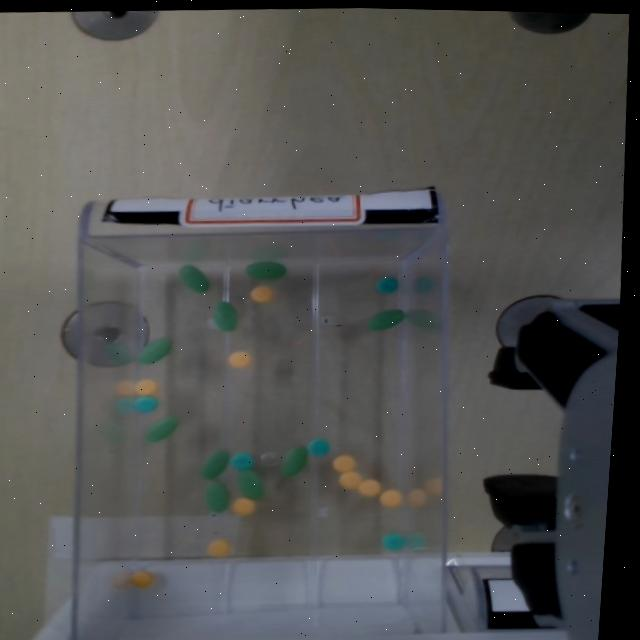famodine: (381, 532, 406, 549), (306, 438, 329, 456), (229, 452, 253, 469), (374, 275, 397, 292), (230, 451, 253, 468), (133, 395, 157, 411), (381, 532, 402, 550), (134, 396, 156, 413), (306, 438, 328, 454), (375, 276, 398, 291)
otillen_tab: (135, 335, 171, 363), (278, 445, 308, 476), (177, 264, 211, 291), (137, 336, 170, 363), (203, 479, 230, 512), (143, 415, 177, 441), (242, 259, 288, 278), (233, 470, 264, 498), (201, 448, 229, 478), (210, 300, 238, 330), (366, 307, 404, 329), (200, 449, 228, 478), (178, 264, 208, 291), (280, 445, 307, 475), (204, 480, 229, 511), (245, 259, 285, 278), (235, 470, 263, 497), (367, 308, 404, 328), (211, 300, 236, 329)
samsung_octylonium_tab: (128, 568, 154, 586), (332, 453, 356, 472), (338, 469, 362, 488), (356, 477, 381, 495), (230, 496, 256, 513), (131, 568, 154, 587), (207, 538, 231, 556), (332, 453, 356, 471), (207, 537, 231, 555), (378, 488, 403, 505), (379, 488, 402, 506), (227, 350, 251, 367), (338, 470, 362, 487), (231, 497, 253, 515), (228, 349, 250, 367), (358, 478, 381, 495), (134, 378, 158, 394), (250, 284, 273, 300), (250, 285, 272, 301), (134, 378, 155, 394)
